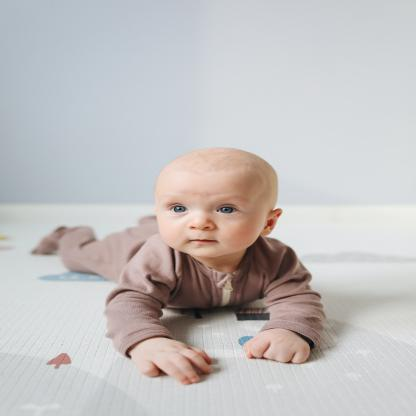Eye: (215, 204, 243, 215), (165, 204, 190, 215)
Mouth: (187, 239, 218, 243)
Nose: (187, 210, 215, 231)
